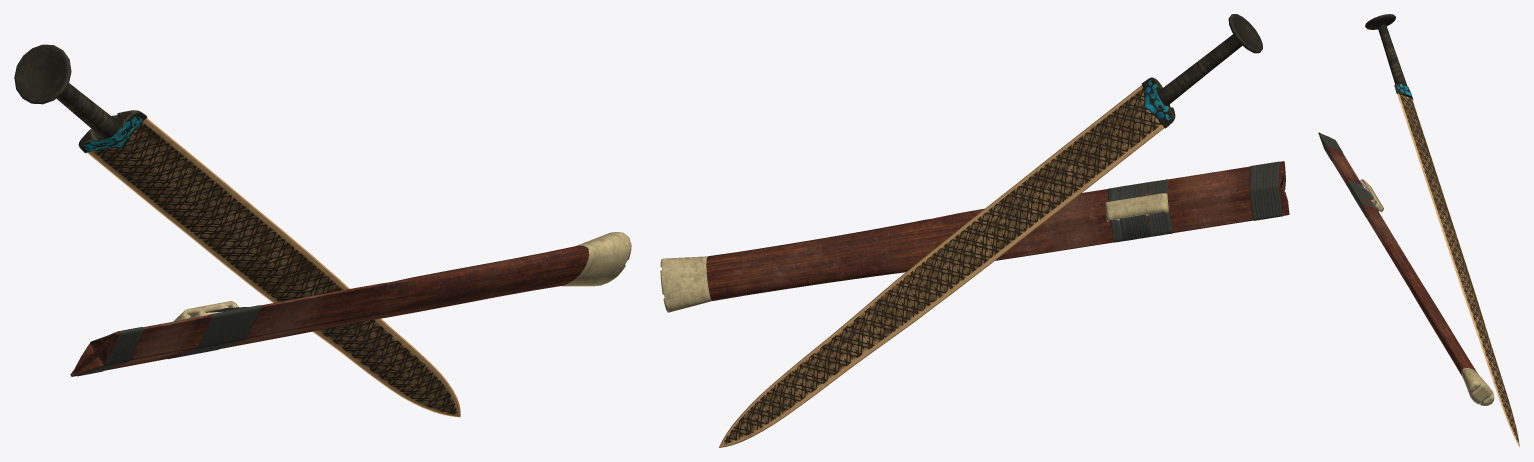
The model's file is ancient_chinese_sword-transformed.glb.
The picture shows the model from 3 angles, left to right: view 1: azimuth 30°, elevation 25°; view 2: azimuth 150°, elevation 25°; view 3: azimuth 270°, elevation 25°; orthographic projection. The views are drawn at different scales.
Parts seen in each view (by area): view 1: Sword_Sword_0, Scabbard_Scabbard_0; view 2: Scabbard_Scabbard_0, Sword_Sword_0; view 3: Sword_Sword_0, Scabbard_Scabbard_0.
Part boxes in pixels (x1,y1,x2,y2): Sword_Sword_0: [14, 44, 460, 417]; Scabbard_Scabbard_0: [70, 232, 631, 376]; Scabbard_Scabbard_0: [660, 161, 1289, 312]; Sword_Sword_0: [718, 14, 1262, 447]; Sword_Sword_0: [1365, 14, 1519, 446]; Scabbard_Scabbard_0: [1318, 132, 1494, 405].
Bounding box in the file's own units: 0.4802 × 0.3961 × 0.2401.
Materials: 2 (2 with a texture image).
